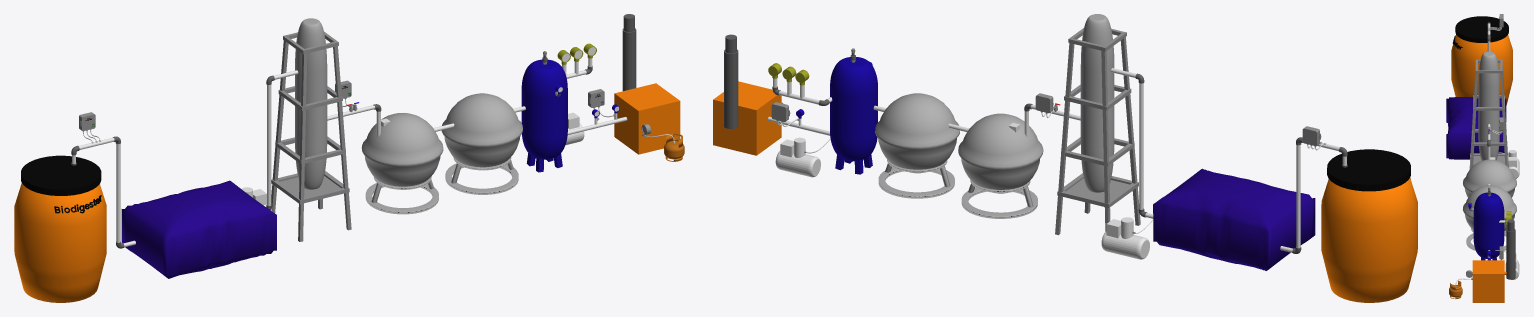
File: BioCNG_Plant.glb
3 renders of one model, left to right at view 1: azimuth 30°, elevation 25°; view 2: azimuth 150°, elevation 25°; view 3: azimuth 270°, elevation 25°, orthographic. The views are drawn at different scales.
Parts seen in each view (by area): view 1: Plane.001, Cylinder.096, Sphere.001, Sphere, Cylinder.054, Cylinder.030, Cube.030, Cylinder.097, Cube.018, Cube.012, Cube.013, Cylinder.071 (+8 smaller); view 2: Plane.001, Cylinder.096, Sphere.001, Sphere, Cylinder.054, Cylinder.030, Cube.030, Cylinder.097, Cylinder.029, Cube.018, Cylinder.069, Cylinder.071 (+10 smaller); view 3: Cylinder.096, Plane.001, Cylinder.054, Cylinder.030, Cube.030, Sphere, Cylinder.097, Sphere.001, Cylinder.071, Cube.013, Cube.015, Cylinder.029 (+14 smaller).
Part boxes in pixels (x1,y1,x2,y2): Plane.001: [121, 180, 276, 278]; Cylinder.096: [14, 183, 106, 302]; Sphere.001: [441, 93, 522, 167]; Sphere: [361, 113, 443, 186]; Cylinder.054: [295, 18, 327, 189]; Cylinder.030: [521, 59, 567, 159]; Cube.030: [614, 83, 680, 154]; Cylinder.097: [21, 155, 101, 195]; Cube.018: [271, 171, 349, 204]; Cube.012: [298, 53, 307, 241]; Cube.013: [333, 46, 351, 230]; Cylinder.071: [622, 28, 636, 91]; Plane.001: [1153, 168, 1315, 270]; Cylinder.096: [1321, 178, 1417, 302]; Sphere.001: [875, 93, 959, 173]; Sphere: [958, 113, 1043, 193]; Cylinder.054: [1080, 14, 1114, 192]; Cylinder.030: [830, 57, 877, 161]; Cube.030: [713, 81, 781, 155]; Cylinder.097: [1327, 149, 1410, 191]; Cylinder.029: [1101, 217, 1149, 259]; Cube.018: [1057, 173, 1138, 207]; Cylinder.069: [775, 137, 820, 177]; Cylinder.071: [724, 49, 738, 129]; Cylinder.096: [1451, 35, 1512, 105]; Plane.001: [1446, 97, 1506, 159]; Cylinder.054: [1478, 51, 1499, 160]; Cylinder.030: [1473, 192, 1504, 258]; Cube.030: [1472, 260, 1504, 302]; Sphere: [1463, 159, 1516, 197]; Cylinder.097: [1455, 16, 1508, 42]; Sphere.001: [1462, 185, 1516, 230]; Cylinder.071: [1506, 229, 1515, 279]; Cube.013: [1470, 73, 1478, 167]; Cube.015: [1500, 73, 1507, 166]; Cylinder.029: [1508, 150, 1519, 178].
Bounding box in the file's own units: 188 × 56.25 × 27.54.
